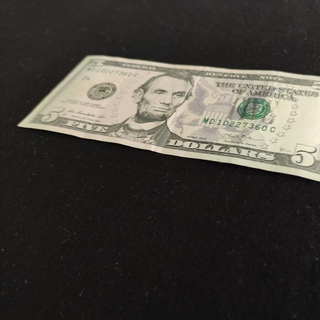5USDFront: (16, 54, 320, 187)
